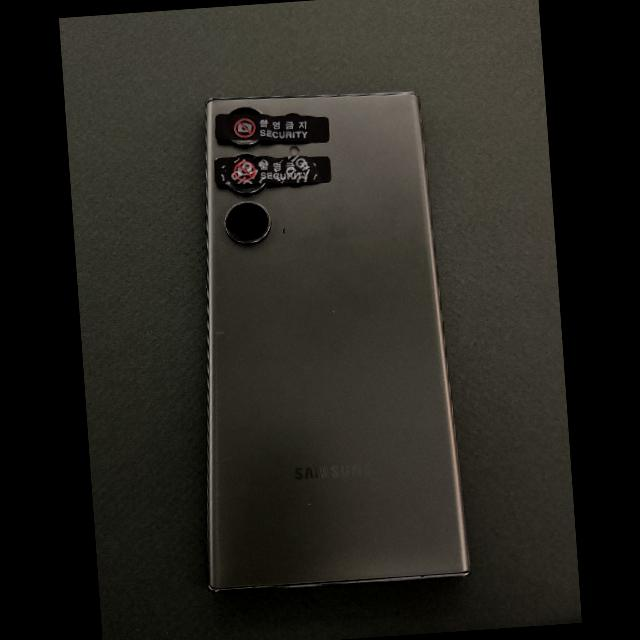lens: (226, 202, 270, 242), (229, 184, 263, 192), (230, 107, 263, 115), (285, 112, 301, 115)
phone: (205, 92, 470, 591)
sticker: (214, 155, 331, 185), (214, 114, 330, 142)
